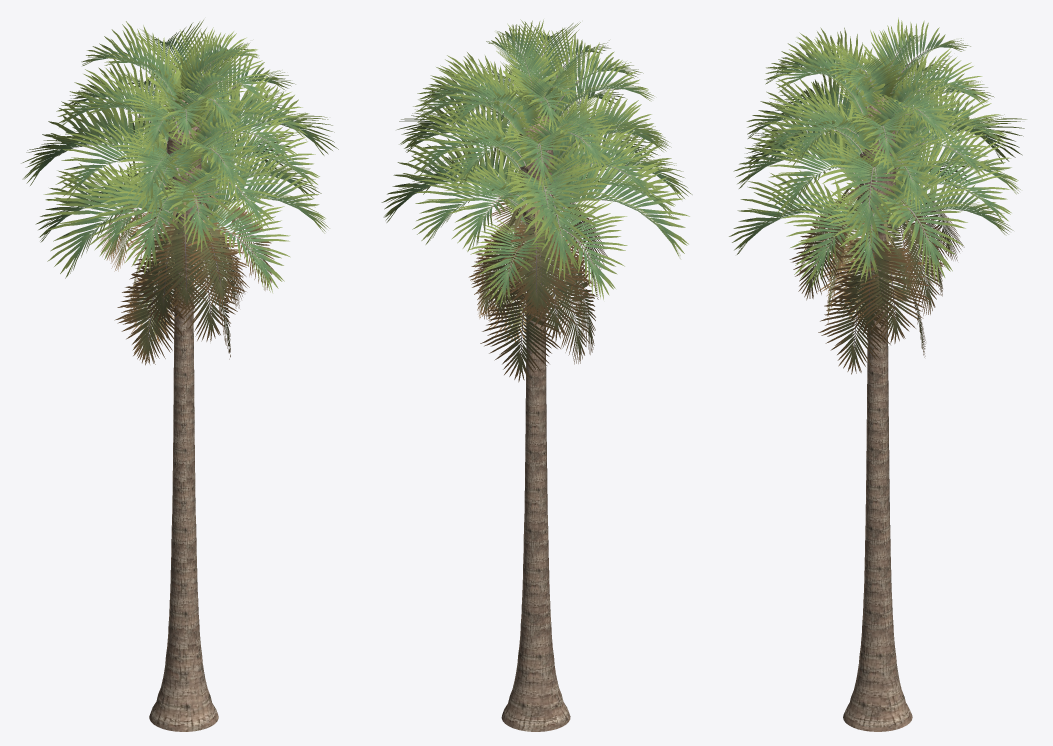
The model's file is Palm.fbx.
3 views of the same model, side by side, from view 1: azimuth 30°, elevation 25°; view 2: azimuth 150°, elevation 25°; view 3: azimuth 270°, elevation 25° (orthographic).
Visible parts, largest first — view 1: Palm_LOD0; view 2: Palm_LOD0; view 3: Palm_LOD0.
Boxes of the visible parts, x1,y1,x2,y2 form: Palm_LOD0: (21, 20, 338, 731); Palm_LOD0: (381, 19, 692, 731); Palm_LOD0: (729, 17, 1026, 731).
Size of what is drawn, in the model's own units: 5.34 by 12 by 4.97.
2 materials, 2 textured.
